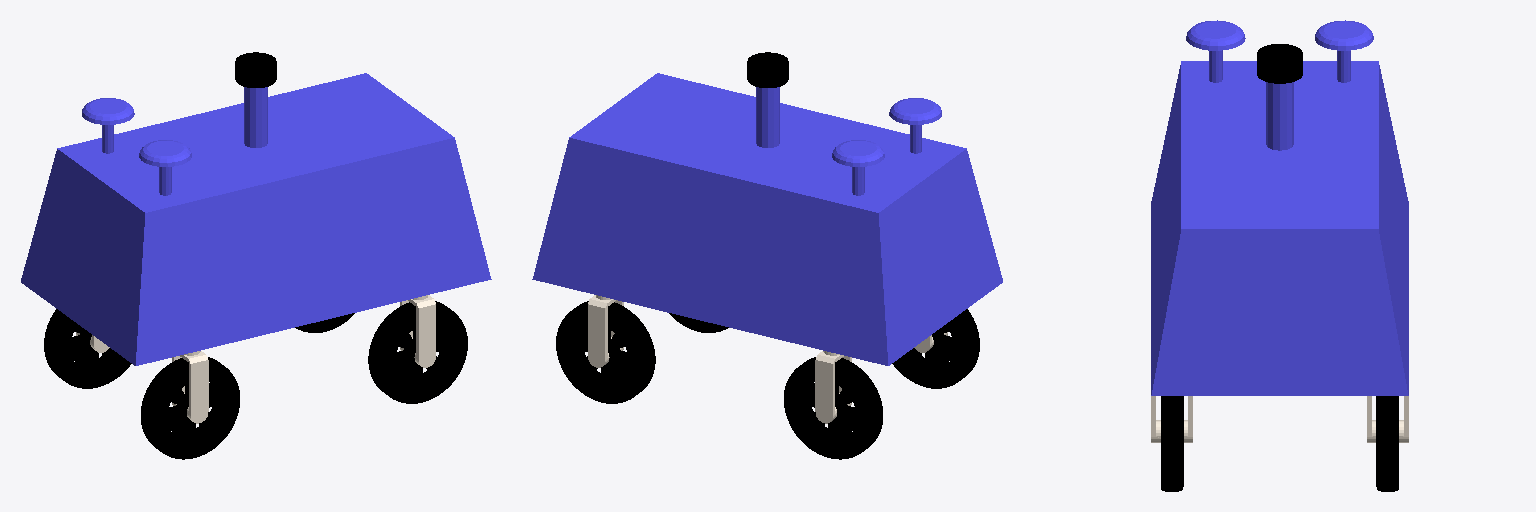
robot.urdf — car_4ws_4wd:
<?xml version="1.0" encoding="utf-8"?>
<!-- This URDF was automatically created by SolidWorks to URDF Exporter! Originally created by [author] ([email redacted]) 
     Commit Version: 1.6.0-4-g7f85cfe  Build Version: 1.6.7995.38578
     For more information, please see http://wiki.ros.org/sw_urdf_exporter -->
<robot
  name="car_4ws_4wd">
  <!-- dummy link -->
  <link name="base"/>
  <joint name="base_joint" type="fixed">
    <parent link="base"/>
    <child link="base_link"/>
    <origin xyz="0 0 0.3" rpy="0 0 0"/>
  </joint>
  <link
    name="base_link">
    <inertial>
      <origin
        xyz="-0.00117586528514695 -4.30552833609457E-17 0.174335815287564"
        rpy="0 0 0" />
      <mass
        value="40.2533565247656" />
      <inertia
        ixx="1.311634309655"
        ixy="1.64735322115376E-16"
        ixz="0.0137789561118299"
        iyy="3.43401128074704"
        iyz="-1.3755764102141E-16"
        izz="3.79965514788602" />
    </inertial>
    <visual>
      <origin
        xyz="0 0 0"
        rpy="0 0 0" />
      <geometry>
        <mesh
          filename="package://car_4ws_4wd/meshes/base_link.STL" />
      </geometry>
      <material
        name="">
        <color
          rgba="0.392156862745098 0.384313725490196 1 1" />
      </material>
    </visual>
    <collision>
      <origin
        xyz="0 0 0"
        rpy="0 0 0" />
      <geometry>
        <mesh
          filename="package://car_4ws_4wd/meshes/base_link.STL" />
      </geometry>
    </collision>
  </link>
  <link
    name="fl_steer_link">
    <inertial>
      <origin
        xyz="5.55111512312578E-17 5.55111512312578E-17 -0.0887276076955047"
        rpy="0 0 0" />
      <mass
        value="10" />
      <inertia
        ixx="0.0479041488909969"
        ixy="4.94445973536415E-18"
        ixz="-1.96308762932002E-18"
        iyy="0.0375622537766457"
        iyz="2.04345079483808E-18"
        izz="0.0141921219001303" />
    </inertial>
    <visual>
      <origin
        xyz="0 0 0"
        rpy="0 0 0" />
      <geometry>
        <mesh
          filename="package://car_4ws_4wd/meshes/fl_steer_link.STL" />
      </geometry>
      <material
        name="">
        <color
          rgba="1 0.96078431372549 0.905882352941176 1" />
      </material>
    </visual>
    <collision>
      <origin
        xyz="0 0 0"
        rpy="0 0 0" />
      <geometry>
        <mesh
          filename="package://car_4ws_4wd/meshes/fl_steer_link.STL" />
      </geometry>
    </collision>
  </link>
  <joint
    name="fl_steer_joint"
    type="revolute">
    <origin
      xyz="0.32 0.235 -0.01"
      rpy="0 0 0" />
    <parent
      link="base_link" />
    <child
      link="fl_steer_link" />
    <axis
      xyz="0 0 1" />
    <limit
      lower="-0.55"
      upper="0.55"
      effort="100"
      velocity="1" />
  </joint>
  <link
    name="fl_drive_link">
    <inertial>
      <origin
        xyz="5.55111512312578E-17 1.66533453693773E-16 0"
        rpy="0 0 0" />
      <mass
        value="2.16662276325971" />
      <inertia
        ixx="0.0105784924083826"
        ixy="-2.32107504311249E-18"
        ixz="-3.29147472915797E-18"
        iyy="0.0105784924083826"
        iyz="2.86815712206063E-19"
        izz="0.0202757786355256" />
    </inertial>
    <visual>
      <origin
        xyz="0 0 0"
        rpy="0 0 0" />
      <geometry>
        <mesh
          filename="package://car_4ws_4wd/meshes/fl_drive_link.STL" />
      </geometry>
      <material
        name="">
        <color
          rgba="0 0 0 1" />
      </material>
    </visual>
    <collision>
      <origin
        xyz="0 0 0"
        rpy="0 0 0" />
      <!-- <geometry>
        <mesh
          filename="package://car_4ws_4wd/meshes/fl_drive_link.STL" />
      </geometry> -->
      <!-- 简化碰撞 -->
      <geometry>
        <cylinder radius="0.13" length="0.05"/> 
      </geometry>
    </collision>
  </link>
  <joint
    name="fl_drive_joint"
    type="continuous">
    <origin
      xyz="0 0 -0.16"
      rpy="1.5707963267949 0 0" />
    <parent
      link="fl_steer_link" />
    <child
      link="fl_drive_link" />
    <axis
      xyz="0 0 -1" />
  </joint>
  <gazebo reference="fl_drive_link">
    <mu1>1.0</mu1>
    <mu2>1.0</mu2>
    <kp>100000.0</kp>
    <kd>10000.0</kd>
    <minDepth>0.001</minDepth>
    <maxVel>5.0</maxVel>
    <material>Gazebo/Black</material>
  </gazebo>
  <link
    name="fr_steer_link">
    <inertial>
      <origin
        xyz="-5.55111512312578E-17 2.77555756156289E-17 -0.0887276076955047"
        rpy="0 0 0" />
      <mass
        value="10" />
      <inertia
        ixx="0.0479041488909969"
        ixy="2.72575887867997E-18"
        ixz="-6.24668436201888E-18"
        iyy="0.0375622537766457"
        iyz="6.09446998085633E-18"
        izz="0.0141921219001303" />
    </inertial>
    <visual>
      <origin
        xyz="0 0 0"
        rpy="0 0 0" />
      <geometry>
        <mesh
          filename="package://car_4ws_4wd/meshes/fr_steer_link.STL" />
      </geometry>
      <material
        name="">
        <color
          rgba="1 0.96078431372549 0.905882352941176 1" />
      </material>
    </visual>
    <collision>
      <origin
        xyz="0 0 0"
        rpy="0 0 0" />
      <geometry>
        <mesh
          filename="package://car_4ws_4wd/meshes/fr_steer_link.STL" />
      </geometry>
    </collision>
  </link>
  <joint
    name="fr_steer_joint"
    type="revolute">
    <origin
      xyz="0.32 -0.235 -0.00999999999999999"
      rpy="0 0 0" />
    <parent
      link="base_link" />
    <child
      link="fr_steer_link" />
    <axis
      xyz="0 0 1" />
    <limit
      lower="-0.55"
      upper="0.55"
      effort="100"
      velocity="1" />
  </joint>
  <link
    name="fr_drive_link">
    <inertial>
      <origin
        xyz="5.55111512312578E-17 1.38777878078145E-16 -5.55111512312578E-17"
        rpy="0 0 0" />
      <mass
        value="2.16662276325971" />
      <inertia
        ixx="0.0105784924083826"
        ixy="-2.21723853185535E-18"
        ixz="-4.05189609818123E-18"
        iyy="0.0105784924083826"
        iyz="3.14161592140784E-18"
        izz="0.0202757786355255" />
    </inertial>
    <visual>
      <origin
        xyz="0 0 0"
        rpy="0 0 0" />
      <geometry>
        <mesh
          filename="package://car_4ws_4wd/meshes/fr_drive_link.STL" />
      </geometry>
      <material
        name="">
        <color
          rgba="0 0 0 1" />
      </material>
    </visual>
    <collision>
      <origin
        xyz="0 0 0"
        rpy="0 0 0" />
      <!-- <geometry>
        <mesh
          filename="package://car_4ws_4wd/meshes/fr_drive_link.STL" />
      </geometry> -->
      <!-- 简化碰撞 -->
      <geometry>
        <cylinder radius="0.13" length="0.05"/> 
      </geometry>
    </collision>
  </link>
  <joint
    name="fr_drive_joint"
    type="continuous">
    <origin
      xyz="0 0 -0.16"
      rpy="1.5707963267949 0 0" />
    <parent
      link="fr_steer_link" />
    <child
      link="fr_drive_link" />
    <axis
      xyz="0 0 -1" />
  </joint>
  <gazebo reference="fr_drive_link">
    <mu1>1.0</mu1>
    <mu2>1.0</mu2>
    <kp>100000.0</kp>
    <kd>10000.0</kd>
    <minDepth>0.001</minDepth>
    <maxVel>5.0</maxVel>
    <material>Gazebo/Black</material>
  </gazebo>
  <link
    name="rl_steer_link">
    <inertial>
      <origin
        xyz="5.55111512312578E-17 -8.32667268468867E-17 -0.0887276076955047"
        rpy="0 0 0" />
      <mass
        value="10" />
      <inertia
        ixx="0.0479041488909969"
        ixy="-9.86394100270256E-19"
        ixz="1.88993973604895E-17"
        iyy="0.0375622537766457"
        iyz="-3.45987688850248E-17"
        izz="0.0141921219001303" />
    </inertial>
    <visual>
      <origin
        xyz="0 0 0"
        rpy="0 0 0" />
      <geometry>
        <mesh
          filename="package://car_4ws_4wd/meshes/rl_steer_link.STL" />
      </geometry>
      <material
        name="">
        <color
          rgba="1 0.96078431372549 0.905882352941176 1" />
      </material>
    </visual>
    <collision>
      <origin
        xyz="0 0 0"
        rpy="0 0 0" />
      <geometry>
        <mesh
          filename="package://car_4ws_4wd/meshes/rl_steer_link.STL" />
      </geometry>
    </collision>
  </link>
  <joint
    name="rl_steer_joint"
    type="revolute">
    <origin
      xyz="-0.32 0.235 -0.01"
      rpy="0 0 0" />
    <parent
      link="base_link" />
    <child
      link="rl_steer_link" />
    <axis
      xyz="0 0 1" />
    <limit
      lower="-0.55"
      upper="0.55"
      effort="100"
      velocity="1" />
  </joint>
  <link
    name="rl_drive_link">
    <inertial>
      <origin
        xyz="1.11022302462516E-16 1.38777878078145E-16 -2.77555756156289E-17"
        rpy="0 0 0" />
      <mass
        value="2.16662276325971" />
      <inertia
        ixx="0.0105784924083827"
        ixy="-1.64270547161544E-18"
        ixz="-2.9596986991524E-18"
        iyy="0.0105784924083827"
        iyz="1.29365881677942E-17"
        izz="0.0202757786355256" />
    </inertial>
    <visual>
      <origin
        xyz="0 0 0"
        rpy="0 0 0" />
      <geometry>
        <mesh
          filename="package://car_4ws_4wd/meshes/rl_drive_link.STL" />
      </geometry>
      <material
        name="">
        <color
          rgba="0 0 0 1" />
      </material>
    </visual>
    <collision>
      <origin
        xyz="0 0 0"
        rpy="0 0 0" />
      <!-- <geometry>
        <mesh
          filename="package://car_4ws_4wd/meshes/rl_drive_link.STL" />
      </geometry> -->
      <!-- 简化碰撞 -->
      <geometry>
        <cylinder radius="0.13" length="0.05"/> 
      </geometry>
    </collision>
  </link>
  <joint
    name="rl_drive_joint"
    type="continuous">
    <origin
      xyz="0 0 -0.16"
      rpy="1.5707963267949 0 0" />
    <parent
      link="rl_steer_link" />
    <child
      link="rl_drive_link" />
    <axis
      xyz="0 0 -1" />
  </joint>
  <gazebo reference="rl_drive_link">
    <mu1>1.0</mu1>
    <mu2>1.0</mu2>
    <kp>100000.0</kp>
    <kd>10000.0</kd>
    <minDepth>0.001</minDepth>
    <maxVel>5.0</maxVel>
    <material>Gazebo/Black</material>
  </gazebo>
  <link
    name="rr_steer_link">
    <inertial>
      <origin
        xyz="0 -2.7756E-17 -0.088728"
        rpy="0 0 0" />
      <mass
        value="10" />
      <inertia
        ixx="0.047904"
        ixy="2.4387E-18"
        ixz="-5.5151E-18"
        iyy="0.037562"
        iyz="-5.8473E-18"
        izz="0.014192" />
    </inertial>
    <visual>
      <origin
        xyz="0 0 0"
        rpy="0 0 0" />
      <geometry>
        <mesh
          filename="package://car_4ws_4wd/meshes/rr_steer_link.STL" />
      </geometry>
      <material
        name="">
        <color
          rgba="1 0.96078 0.90588 1" />
      </material>
    </visual>
    <collision>
      <origin
        xyz="0 0 0"
        rpy="0 0 0" />
      <geometry>
        <mesh
          filename="package://car_4ws_4wd/meshes/rr_steer_link.STL" />
      </geometry>
    </collision>
  </link>
  <joint
    name="rr_steer_joint"
    type="revolute">
    <origin
      xyz="-0.32 -0.235 -0.01"
      rpy="0 0 0" />
    <parent
      link="base_link" />
    <child
      link="rr_steer_link" />
    <axis
      xyz="0 0 1" />
    <limit
      lower="-0.55"
      upper="0.55"
      effort="100"
      velocity="1" />
  </joint>
  <link
    name="rr_drive_link">
    <inertial>
      <origin
        xyz="5.5511E-17 1.3878E-16 2.7756E-17"
        rpy="0 0 0" />
      <mass
        value="2.1666" />
      <inertia
        ixx="0.010578"
        ixy="-2.5643E-18"
        ixz="-3.6716E-18"
        iyy="0.010578"
        iyz="2.8927E-18"
        izz="0.020276" />
    </inertial>
    <visual>
      <origin
        xyz="0 0 0"
        rpy="0 0 0" />
      <geometry>
        <mesh
          filename="package://car_4ws_4wd/meshes/rr_drive_link.STL" />
      </geometry>
      <material
        name="">
        <color
          rgba="0 0 0 1" />
      </material>
    </visual>
    <collision>
      <origin
        xyz="0 0 0"
        rpy="0 0 0" />
      <!-- <geometry>
        <mesh
          filename="package://car_4ws_4wd/meshes/rr_drive_link.STL" />
      </geometry> -->
      <!-- 简化碰撞 -->
      <geometry>
        <cylinder radius="0.13" length="0.05"/> 
      </geometry>
    </collision>
  </link>
  <joint
    name="rr_drive_joint"
    type="continuous">
    <origin
      xyz="0 0 -0.16"
      rpy="1.5707963267949 0 0" />
    <parent
      link="rr_steer_link" />
    <child
      link="rr_drive_link" />
    <axis
      xyz="0 0 -1" />
  </joint>
  <gazebo reference="rr_drive_link">
    <mu1>1.0</mu1>
    <mu2>1.0</mu2>
    <kp>100000.0</kp>
    <kd>10000.0</kd>
    <minDepth>0.001</minDepth>
    <maxVel>5.0</maxVel>
    <material>Gazebo/Black</material>
  </gazebo>
  <link
    name="lidar_link">
    <inertial>
      <origin
        xyz="-3.4211E-49 9.7454E-19 1.1102E-16"
        rpy="0 0 0" />
      <mass
        value="0.3927" />
      <inertia
        ixx="0.00032725"
        ixy="9.7388E-52"
        ixz="-6.1103E-36"
        iyy="0.00032725"
        iyz="-3.3795E-35"
        izz="0.00049087" />
    </inertial>
    <visual>
      <origin
        xyz="0 0 0"
        rpy="0 0 0" />
      <geometry>
        <mesh
          filename="package://car_4ws_4wd/meshes/lidar_link.STL" />
      </geometry>
      <material
        name="">
        <color
          rgba="0 0 0 1" />
      </material>
    </visual>
    <collision>
      <origin
        xyz="0 0 0"
        rpy="0 0 0" />
      <geometry>
        <mesh
          filename="package://car_4ws_4wd/meshes/lidar_link.STL" />
      </geometry>
    </collision>
  </link>
  <joint
    name="lidar_joint"
    type="fixed">
    <origin
      xyz="0 0 0.565"
      rpy="0 0 0" />
    <parent
      link="base_link" />
    <child
      link="lidar_link" />
    <axis
      xyz="0 0 0" />
  </joint>
  <!-- 添加传动装置 -->
  <transmission name="fl_steer_trans">
    <type>transmission_interface/SimpleTransmission</type>
    <joint name="fl_steer_joint">
      <hardwareInterface>hardware_interface/EffortJointInterface</hardwareInterface>
    </joint>
    <actuator name="fl_steer_motor">
      <mechanicalReduction>1</mechanicalReduction>
    </actuator>
  </transmission>

  <transmission name="fr_steer_trans">
    <type>transmission_interface/SimpleTransmission</type>
    <joint name="fr_steer_joint">
      <hardwareInterface>hardware_interface/EffortJointInterface</hardwareInterface>
    </joint>
    <actuator name="fr_steer_motor">
      <mechanicalReduction>1</mechanicalReduction>
    </actuator>
  </transmission>

  <transmission name="rl_steer_trans">
    <type>transmission_interface/SimpleTransmission</type>
    <joint name="rl_steer_joint">
      <hardwareInterface>hardware_interface/EffortJointInterface</hardwareInterface>
    </joint>
    <actuator name="rl_steer_motor">
      <mechanicalReduction>1</mechanicalReduction>
    </actuator>
  </transmission>

  <transmission name="rr_steer_trans">
    <type>transmission_interface/SimpleTransmission</type>
    <joint name="rr_steer_joint">
      <hardwareInterface>hardware_interface/EffortJointInterface</hardwareInterface>
    </joint>
    <actuator name="rr_steer_motor">
      <mechanicalReduction>1</mechanicalReduction>
    </actuator>
  </transmission>

  <transmission name="fl_drive_trans">
    <type>transmission_interface/SimpleTransmission</type>
    <joint name="fl_drive_joint">
      <hardwareInterface>hardware_interface/VelocityJointInterface</hardwareInterface>
    </joint>
    <actuator name="fl_drive_motor">
      <mechanicalReduction>1</mechanicalReduction>
    </actuator>
  </transmission>

  <transmission name="fr_drive_trans">
    <type>transmission_interface/SimpleTransmission</type>
    <joint name="fr_drive_joint">
      <hardwareInterface>hardware_interface/VelocityJointInterface</hardwareInterface>
    </joint>
    <actuator name="fr_drive_motor">
      <mechanicalReduction>1</mechanicalReduction>
    </actuator>
  </transmission>

  <transmission name="rl_drive_trans">
    <type>transmission_interface/SimpleTransmission</type>
    <joint name="rl_drive_joint">
      <hardwareInterface>hardware_interface/VelocityJointInterface</hardwareInterface>
    </joint>
    <actuator name="rl_drive_motor">
      <mechanicalReduction>1</mechanicalReduction>
    </actuator>
  </transmission>

  <transmission name="rr_drive_trans">
    <type>transmission_interface/SimpleTransmission</type>
    <joint name="rr_drive_joint">
      <hardwareInterface>hardware_interface/VelocityJointInterface</hardwareInterface>
    </joint>
    <actuator name="rr_drive_motor">
      <mechanicalReduction>1</mechanicalReduction>
    </actuator>
  </transmission>
  <!-- 添加 Gazebo ROS Control 插件 -->
  <gazebo>
    <plugin name="gazebo_ros_control" filename="libgazebo_ros_control.so">
      <robotNamespace>/car_4ws_4wd</robotNamespace>
    </plugin>
  </gazebo>
  <gazebo reference="lidar_link">
    <sensor type="ray" name="lidar_sensor">
      <update_rate>10.0</update_rate>
      <ray>
        <scan>
          <horizontal>
            <min_angle>-3.14159</min_angle>
            <max_angle>3.14159</max_angle>
            <samples>720</samples> 
          </horizontal>
          </scan>
        <range>
          <min>0.15</min>
          <max>10.0</max>
          <resolution>0.01</resolution>
        </range>
      </ray>

      <plugin name="gazebo_ros_lidar_controller" filename="libgazebo_ros_laser.so">
        <topicName>/car_4ws_4wd/scan</topicName>
        <frameName>lidar_link</frameName>
      </plugin>
    </sensor>
  </gazebo>
</robot>

--- Render facts (derived) ---
3 views of the same robot in one strip: view 1: azimuth 30°, elevation 25°; view 2: azimuth 150°, elevation 25°; view 3: azimuth 270°, elevation 25° (orthographic).
Robot: car_4ws_4wd — 11 links, 10 joints (4 revolute, 4 continuous, 2 fixed); root link base; default pose: all joints at 0.
Visible links, largest first — view 1: base_link, fr_drive_link, rr_drive_link, rl_drive_link, rr_steer_link, fr_steer_link, lidar_link; view 2: base_link, fl_drive_link, rl_drive_link, rr_drive_link, rl_steer_link, fl_steer_link, lidar_link; view 3: base_link, fl_drive_link, fr_drive_link, lidar_link, fl_steer_link, fr_steer_link.
Boxes of the visible links, left/top/right/bottom form: base_link: left=21, top=73, right=491, bottom=365; fr_drive_link: left=368, top=301, right=467, bottom=403; rr_drive_link: left=141, top=357, right=239, bottom=459; rl_drive_link: left=44, top=309, right=131, bottom=388; rr_steer_link: left=172, top=351, right=208, bottom=423; fr_steer_link: left=400, top=295, right=435, bottom=367; lidar_link: left=235, top=52, right=276, bottom=87; base_link: left=532, top=73, right=1002, bottom=365; fl_drive_link: left=556, top=301, right=655, bottom=403; rl_drive_link: left=784, top=357, right=882, bottom=459; rr_drive_link: left=892, top=309, right=979, bottom=388; rl_steer_link: left=815, top=351, right=851, bottom=423; fl_steer_link: left=588, top=295, right=623, bottom=367; lidar_link: left=747, top=52, right=788, bottom=87; base_link: left=1151, top=20, right=1408, bottom=395; fl_drive_link: left=1376, top=396, right=1398, bottom=491; fr_drive_link: left=1161, top=396, right=1183, bottom=491; lidar_link: left=1257, top=44, right=1302, bottom=83; fl_steer_link: left=1367, top=396, right=1408, bottom=442; fr_steer_link: left=1151, top=396, right=1192, bottom=442.
Size in the robot's own frame: 1 by 0.56 by 0.89 metres.
Meshes: 10 distinct files referenced, 10 mesh visuals loaded (10 binary STL).
